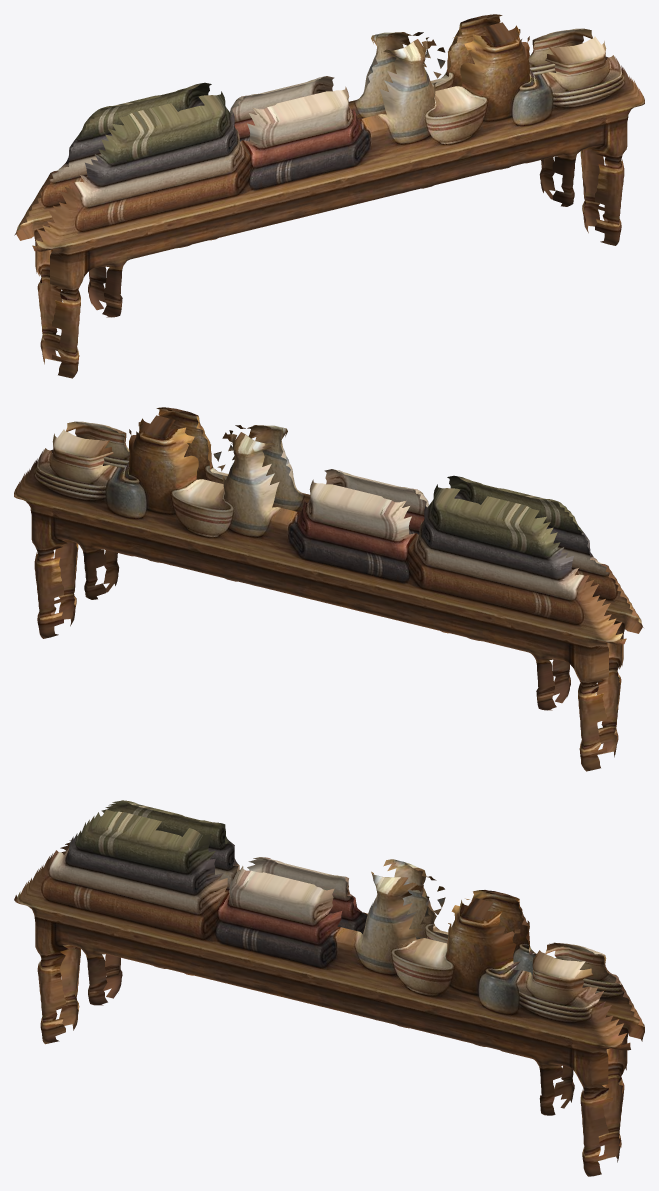
Rendered from v4-general-store-scatter-display-table.glb.
3 renders of one model, top to bottom at view 1: azimuth 30°, elevation 25°; view 2: azimuth 150°, elevation 25°; view 3: azimuth 330°, elevation 25°, orthographic.
Visible parts, largest first — view 1: v4-general-store-scatter-display-table; view 2: v4-general-store-scatter-display-table; view 3: v4-general-store-scatter-display-table.
Boxes of the visible parts, left/top/right/bottom form: v4-general-store-scatter-display-table: left=14, top=14, right=644, bottom=378; v4-general-store-scatter-display-table: left=14, top=407, right=643, bottom=771; v4-general-store-scatter-display-table: left=14, top=800, right=644, bottom=1176.
Size of the model in its own units: 2.52 by 0.9683 by 0.24.
Materials: 1 (1 with a texture image).
